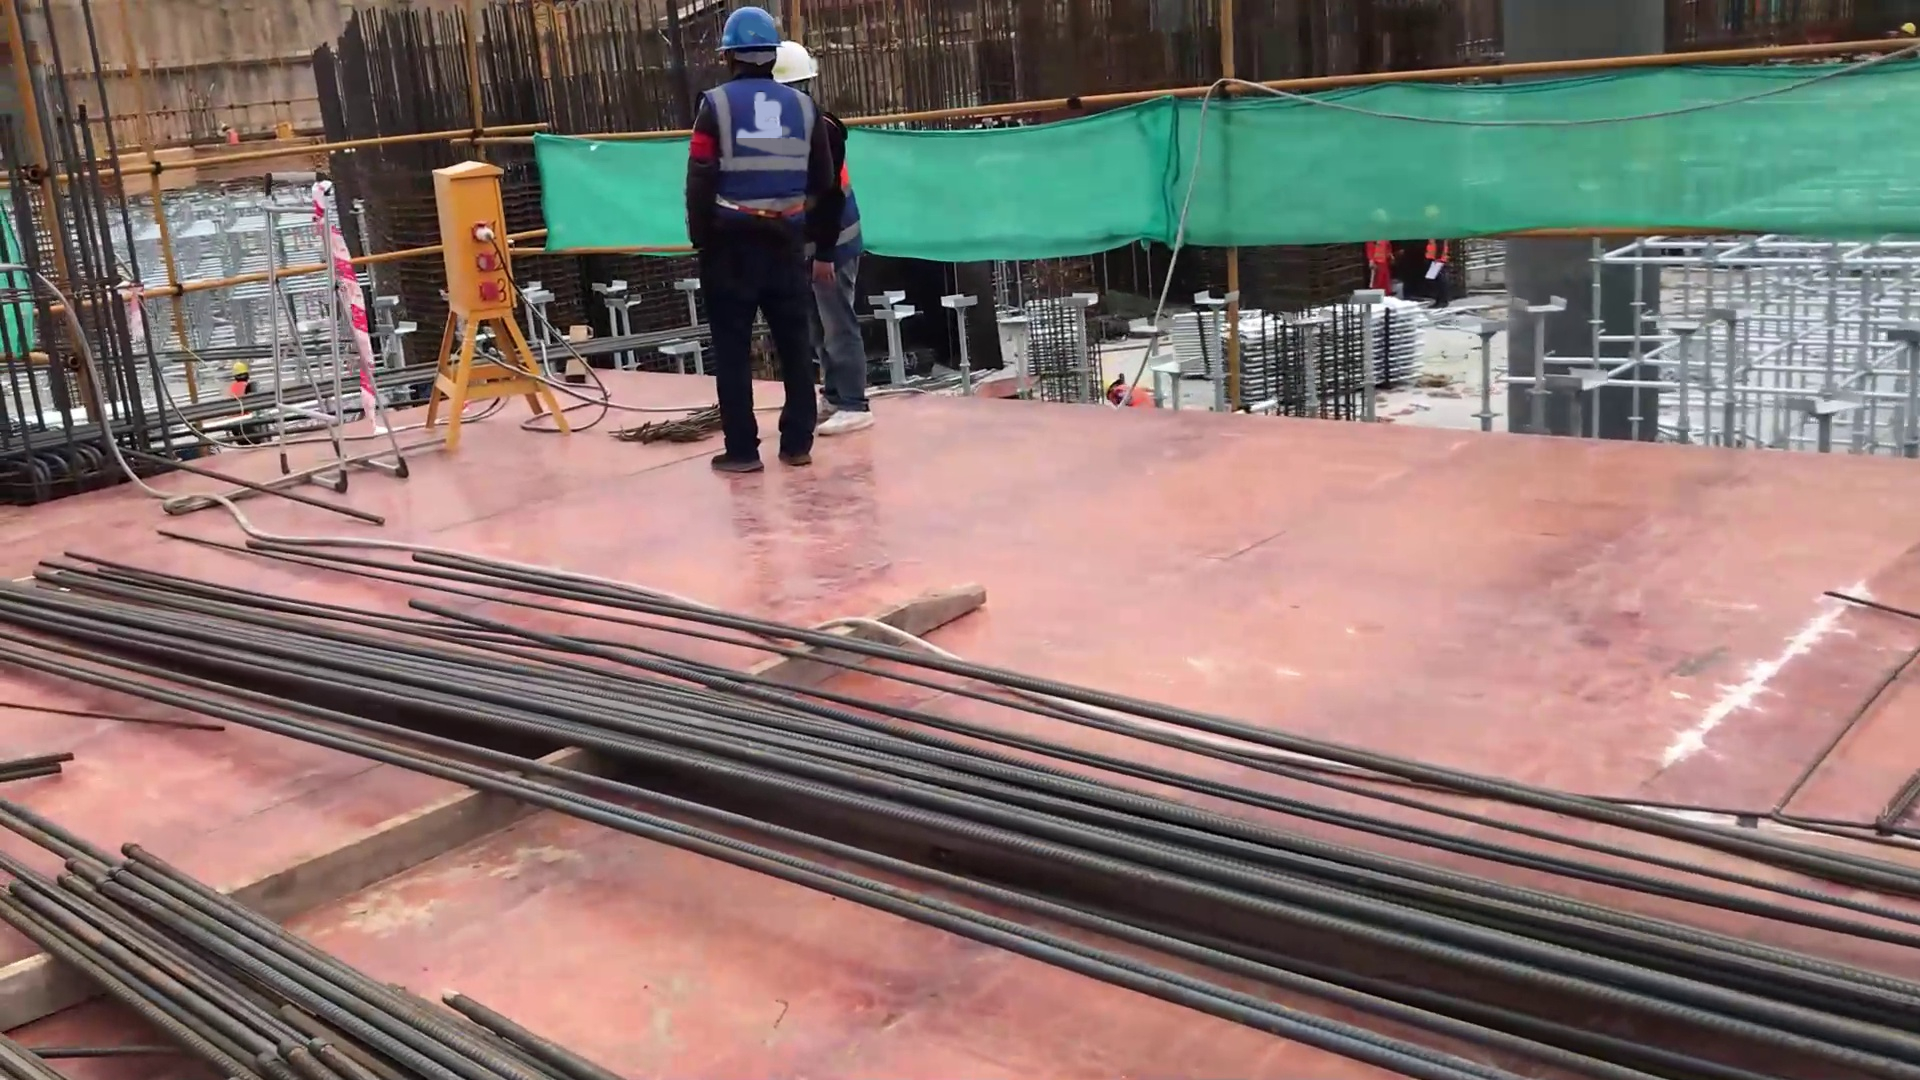helmet: (715, 6, 784, 51), (776, 31, 824, 83), (227, 358, 255, 378), (1367, 203, 1388, 223), (1422, 200, 1443, 216)
person: (686, 8, 819, 473), (769, 41, 887, 433), (1418, 196, 1456, 317), (1359, 201, 1396, 308), (223, 356, 263, 416), (214, 116, 245, 149)
vest: (703, 82, 813, 212), (1423, 227, 1458, 264), (1368, 230, 1393, 271), (225, 384, 250, 403), (222, 130, 236, 148)
